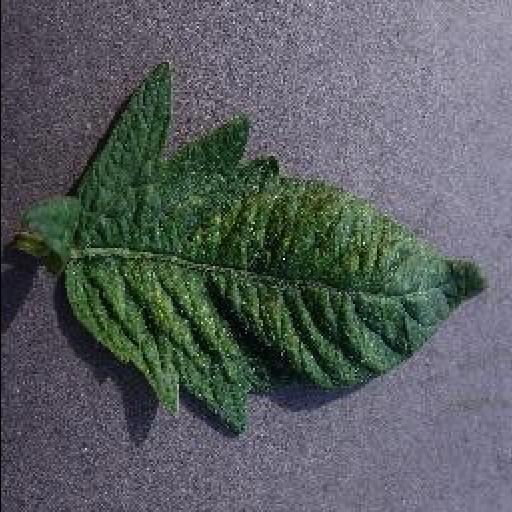disease_tomato: (58, 60, 486, 432)
